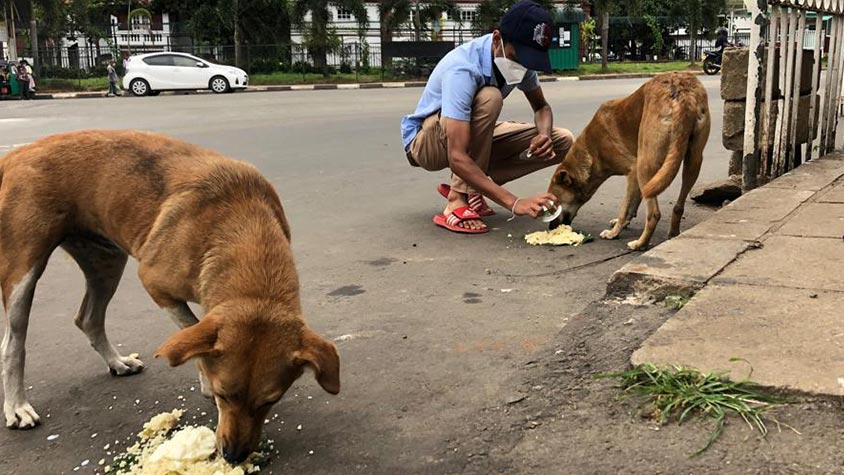Dog: (1, 117, 342, 475)
